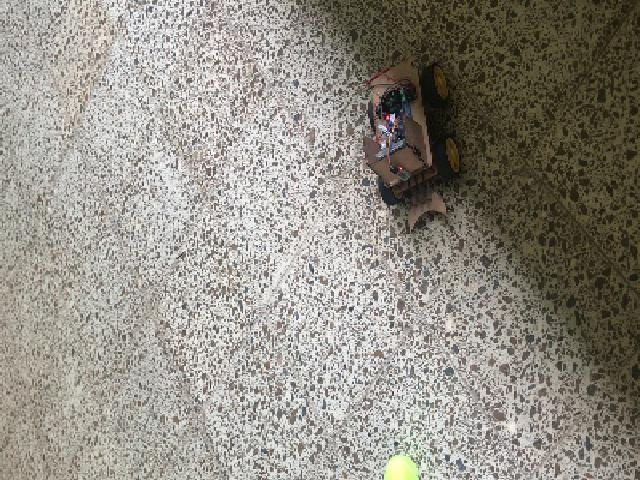Ball: (382, 456, 419, 478)
Robot: (363, 56, 461, 233)
